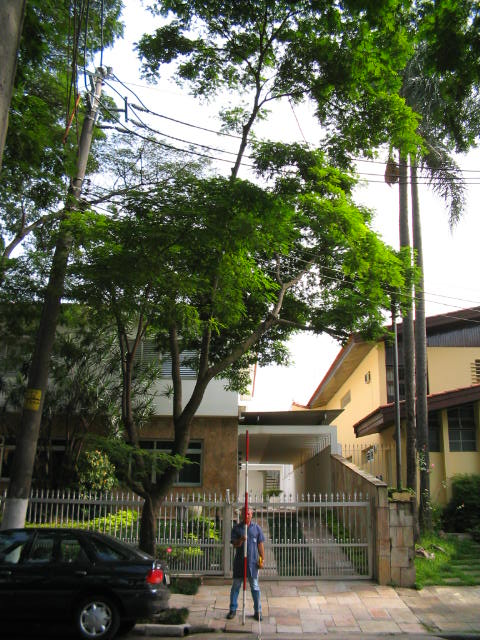crown: (41, 144, 422, 369)
stem: (131, 501, 164, 623)
stick: (238, 429, 256, 626)
tree: (38, 142, 424, 624)
